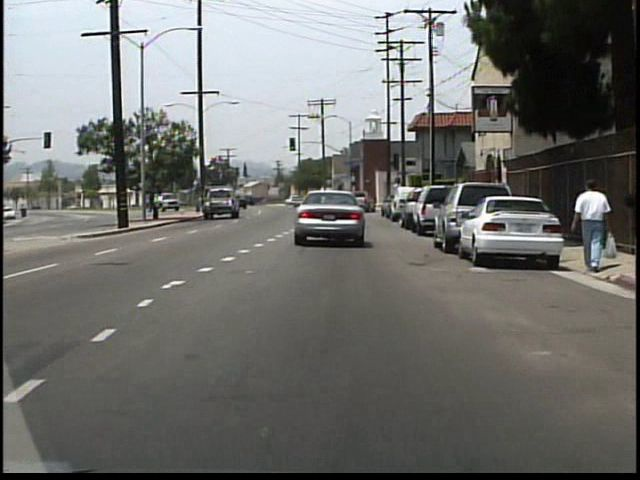person: (570, 174, 611, 273)
